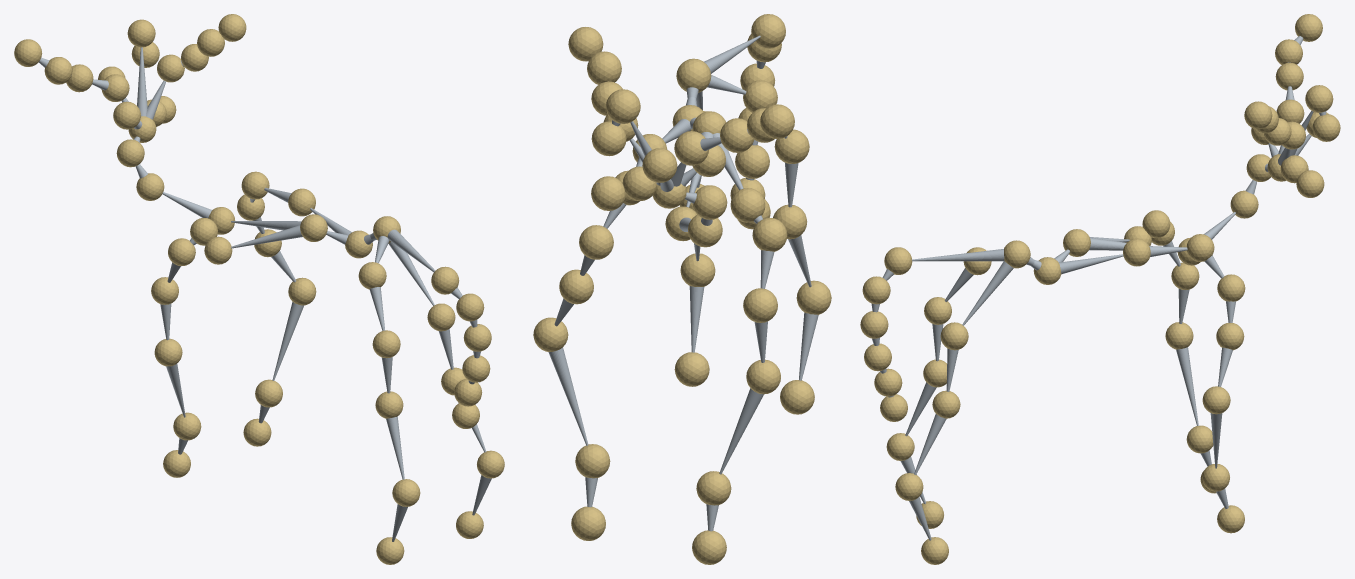
Rendered from skeleton.glb.
3 renders of one model, left to right at view 1: azimuth 30°, elevation 25°; view 2: azimuth 150°, elevation 25°; view 3: azimuth 270°, elevation 25°, orthographic. The views are drawn at different scales.
Visible parts, largest first — view 1: world; view 2: world; view 3: world.
Boxes of the visible parts, box(x1,y1,x2,y2) form: world: box(14, 14, 504, 564); world: box(533, 14, 831, 564); world: box(860, 14, 1340, 564).
Size of the model in its own units: 0.6618 by 0.9395 by 0.9554.
